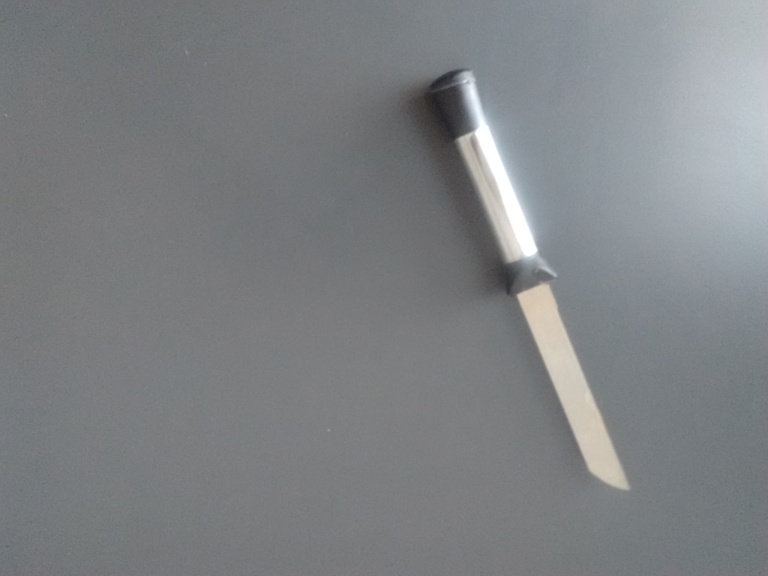knife: (423, 67, 634, 493)
